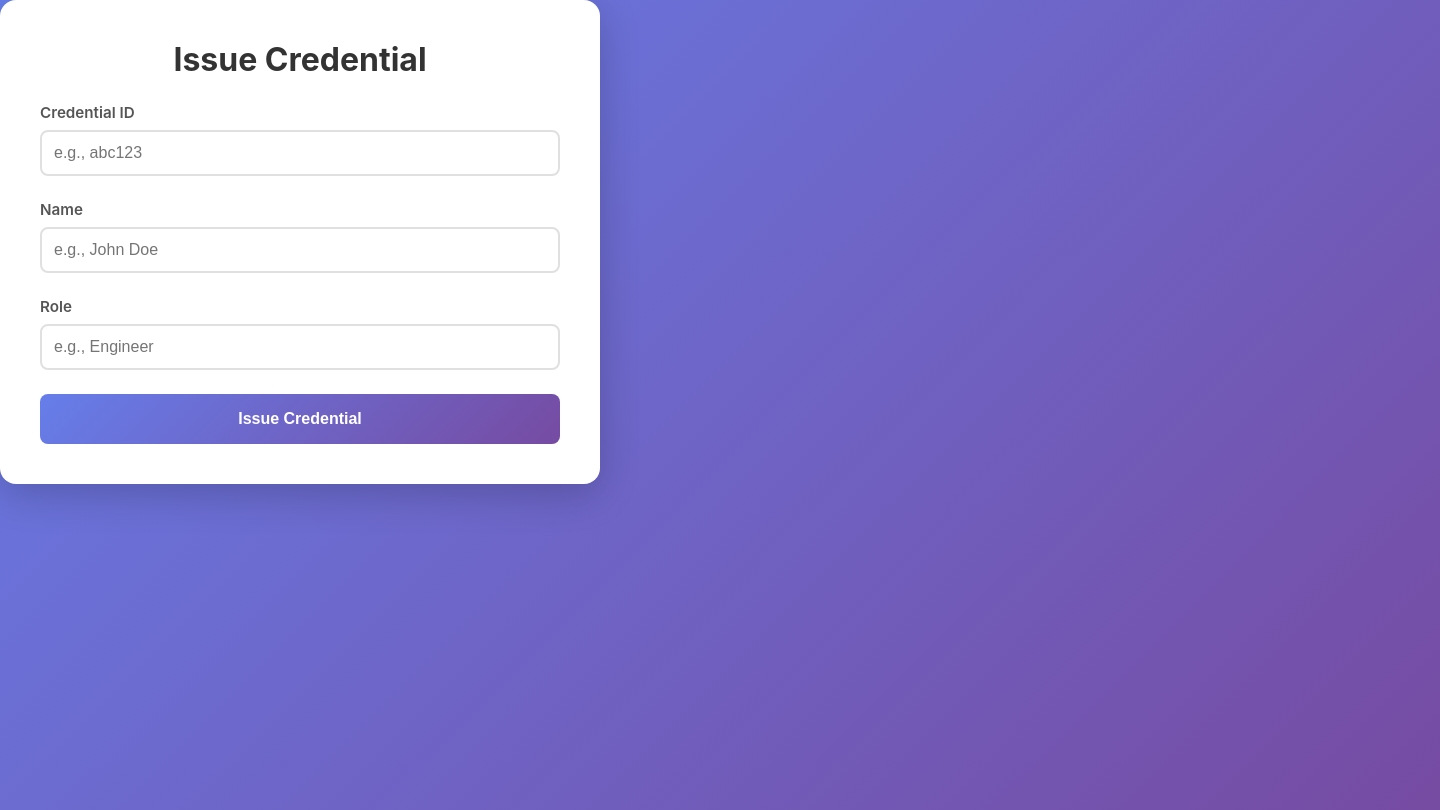
Test: IssuePage › handles successful credential issuance
Type "test123" into the field labelled "Credential ID" at [300, 153], box [40,130,560,176]
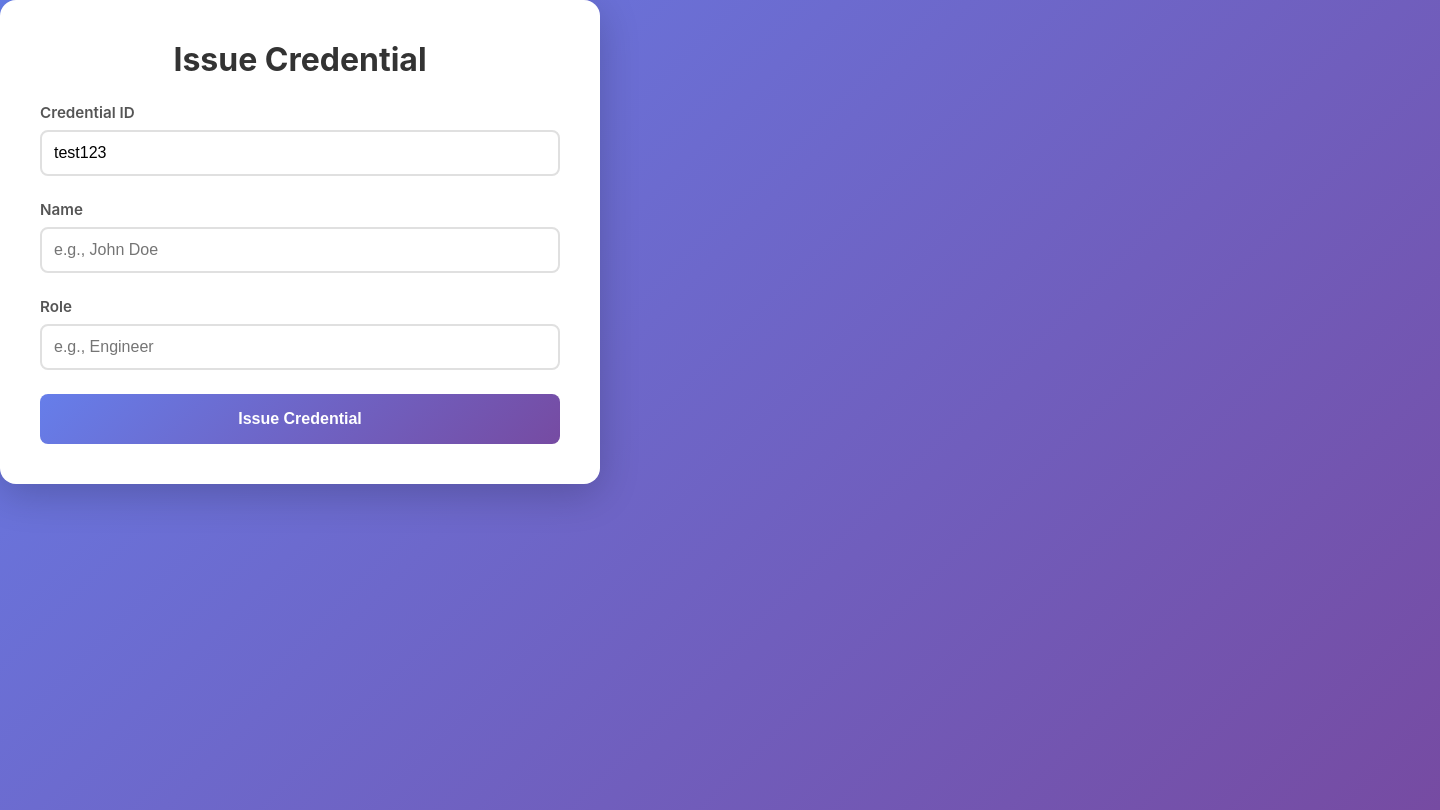
Type "John Doe" into the field labelled "Name" at [300, 250], box [40,227,560,273]
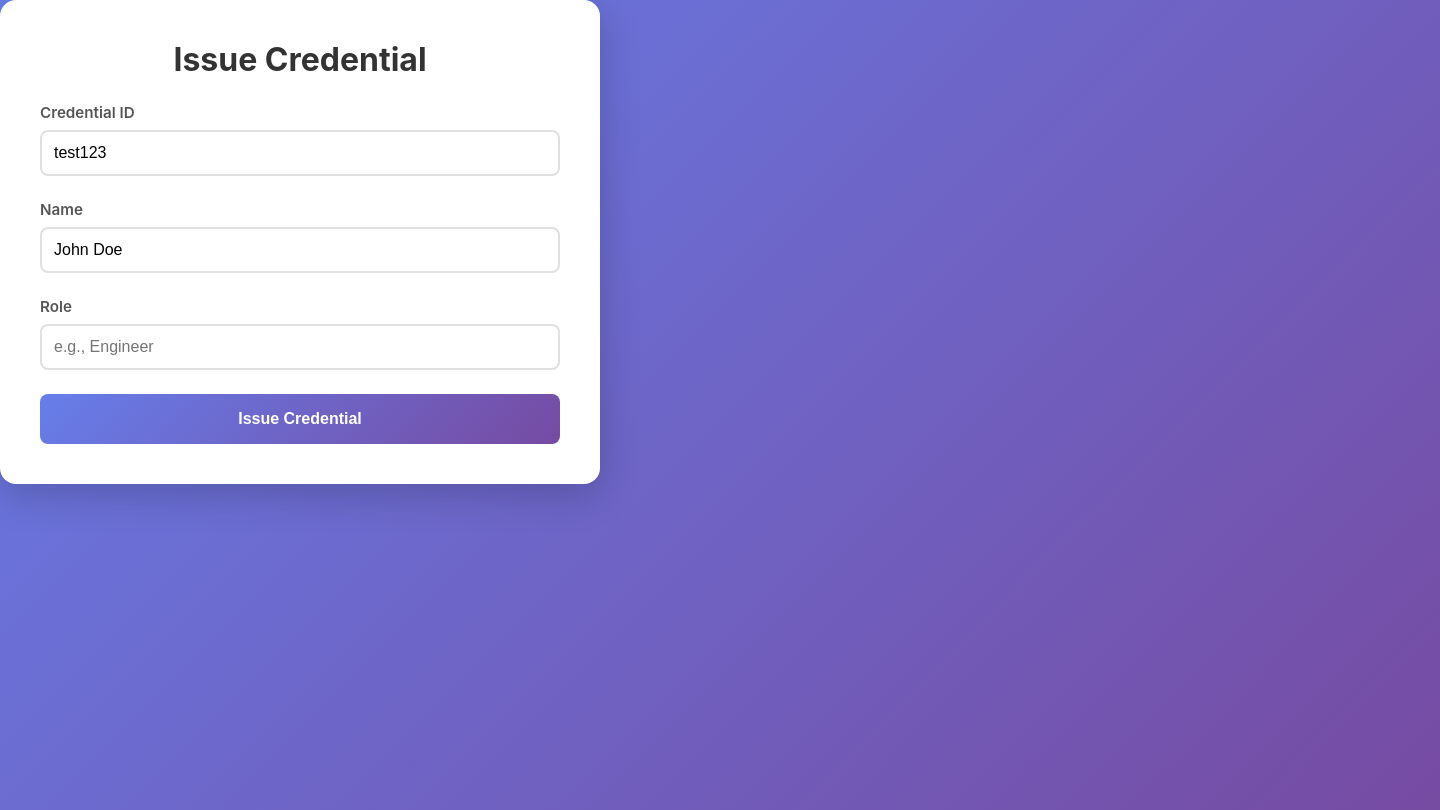
Type "Engineer" into the field labelled "Role" at [300, 347], box [40,324,560,370]
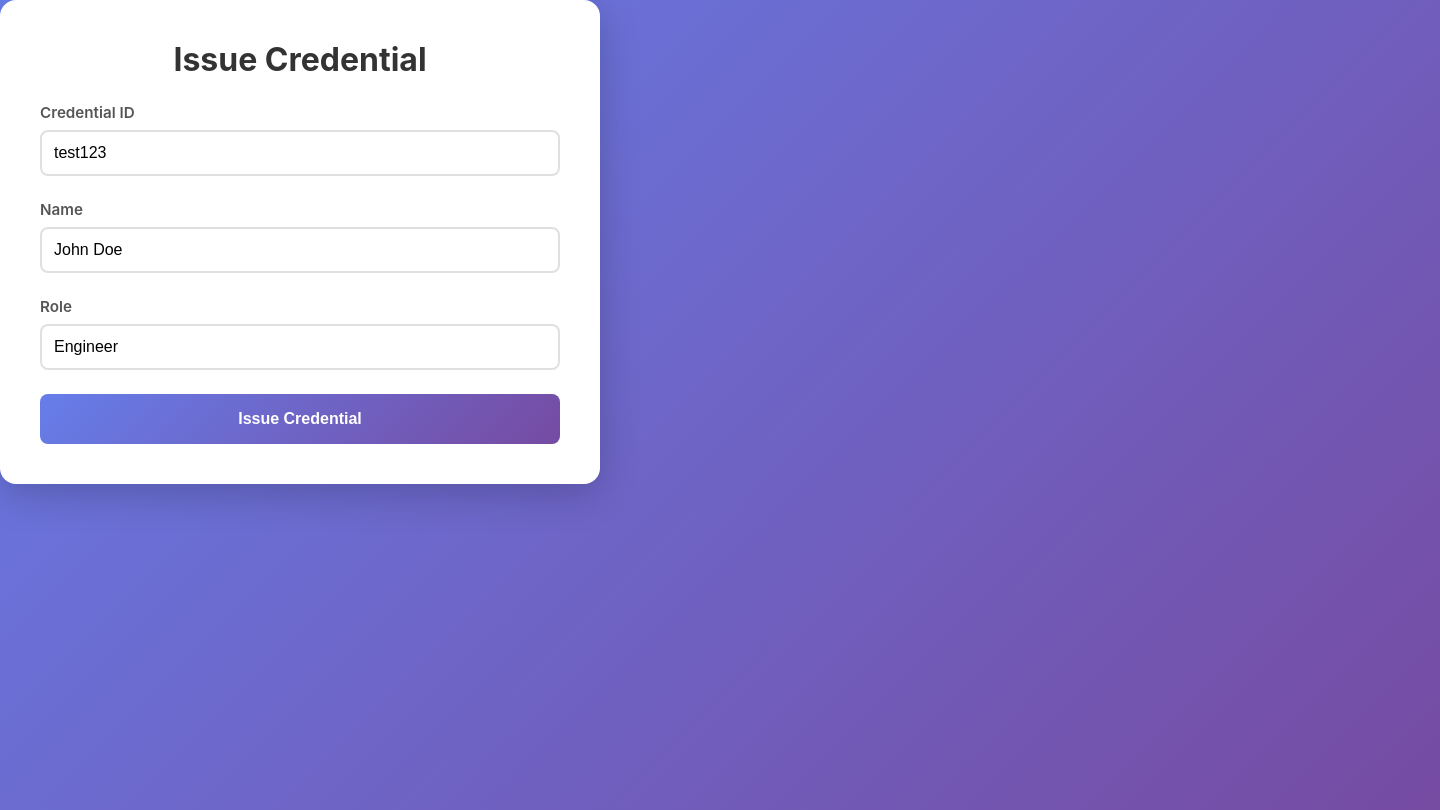
Click the button "Issue Credential" at [300, 419], box [40,394,560,444]
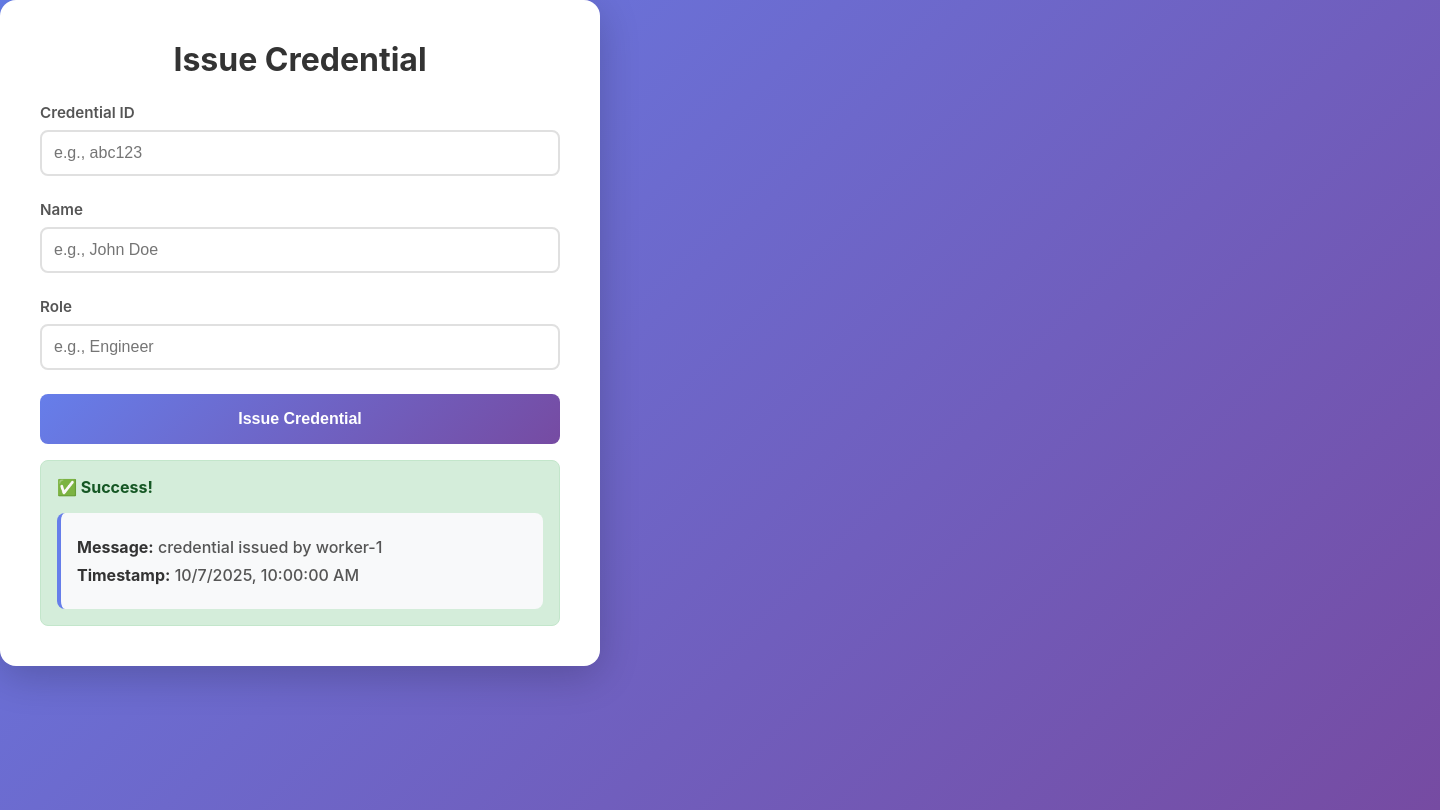
Now the text "✅ Success!" is shown, box [57,477,153,497]
Now the text "Message: credential issued by worker-1" is shown, box [77,537,382,557]
